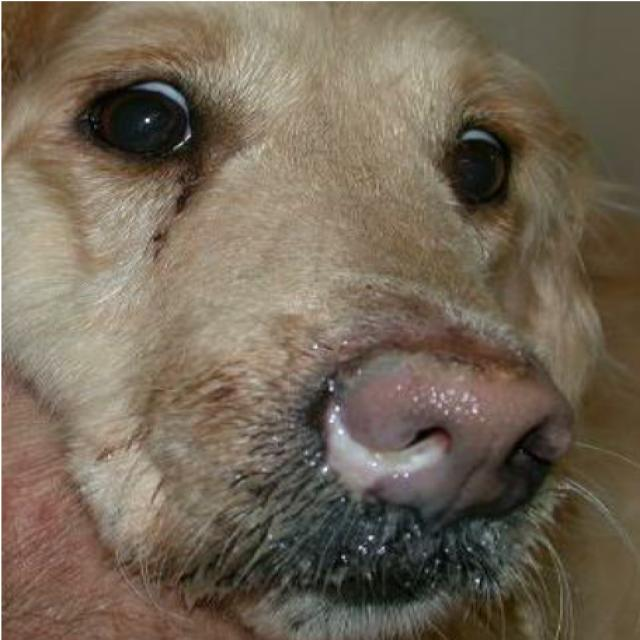fungal infection: (102, 381, 468, 587), (347, 288, 536, 358), (143, 168, 210, 256), (483, 204, 544, 285), (465, 533, 518, 596)
